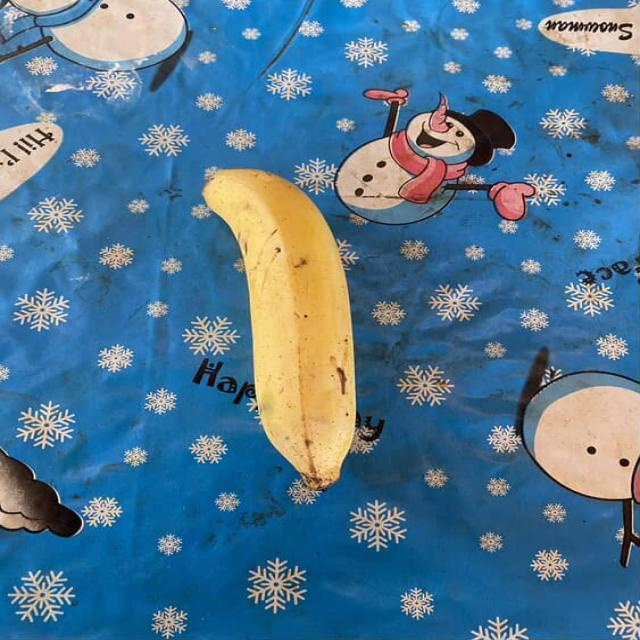Ripe: (180, 148, 392, 500)
